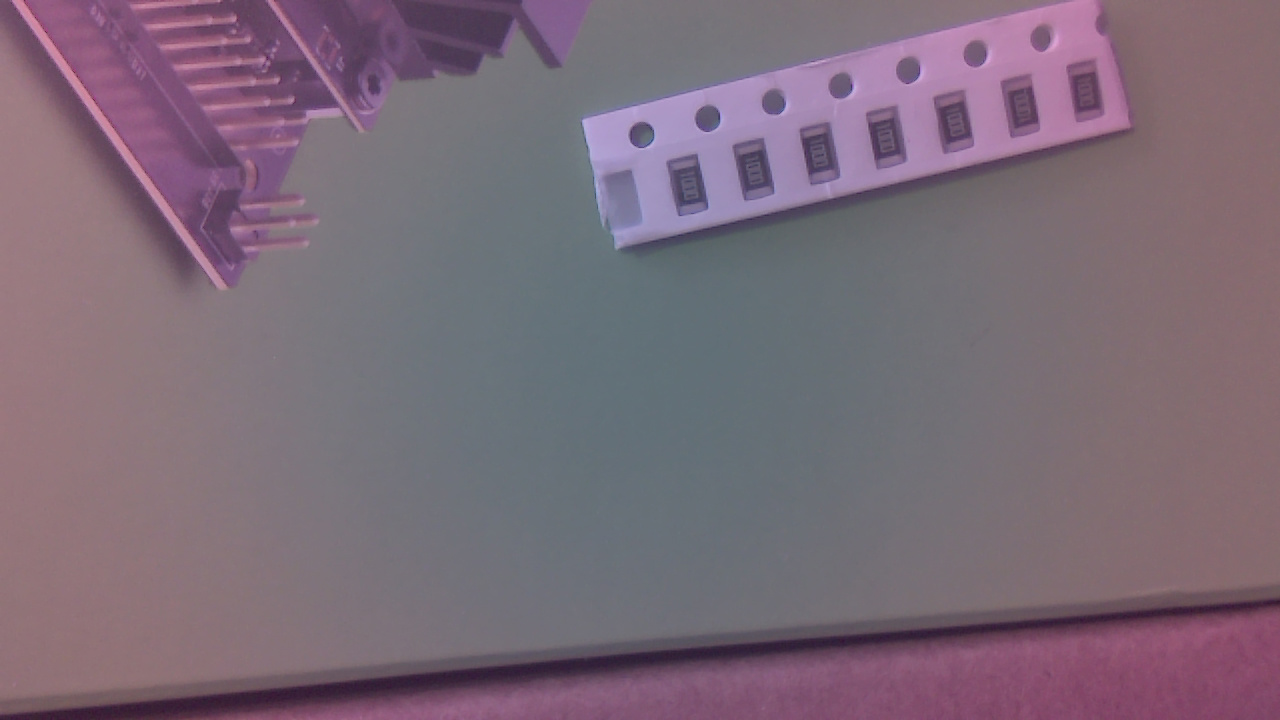Resistor: (872, 107, 916, 177), (736, 143, 781, 205), (1006, 81, 1048, 146), (672, 158, 714, 222), (804, 126, 845, 190), (939, 95, 979, 160), (1073, 65, 1111, 128)
